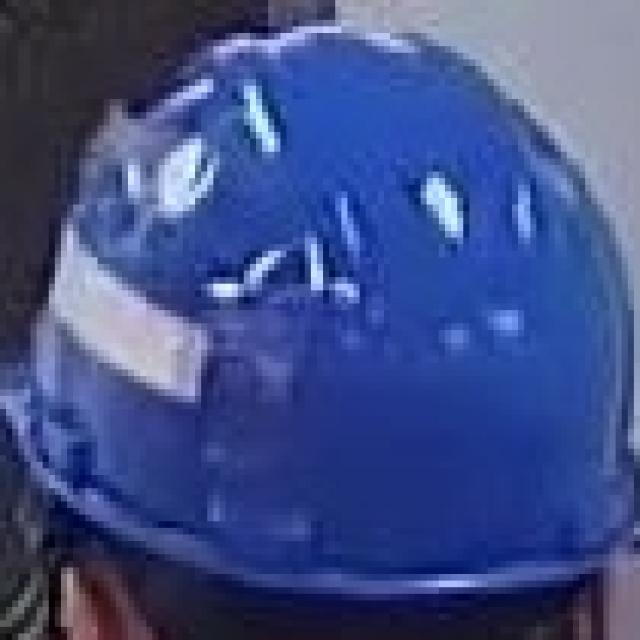helmet_blue: (3, 3, 637, 637)
